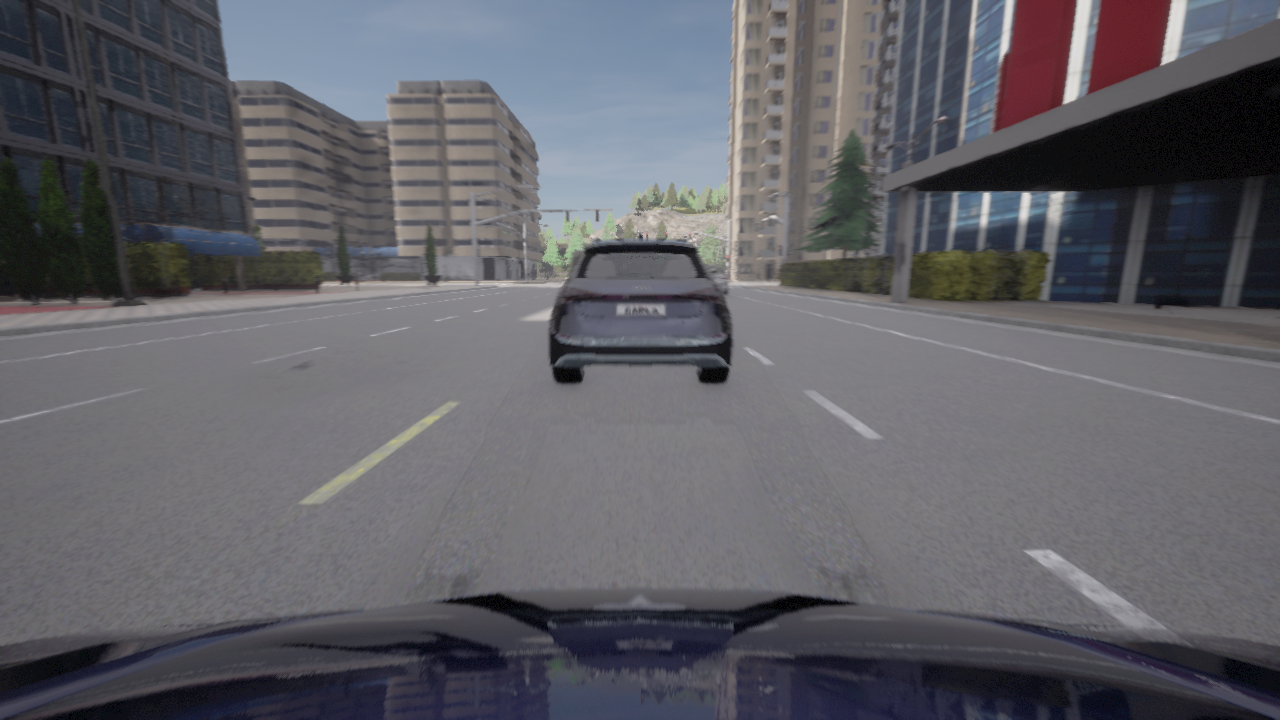cyclist: (0, 588, 1279, 719), (549, 234, 732, 383), (706, 265, 728, 294), (568, 251, 583, 278)
